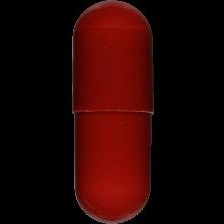61919-505: (0, 0, 224, 224)
